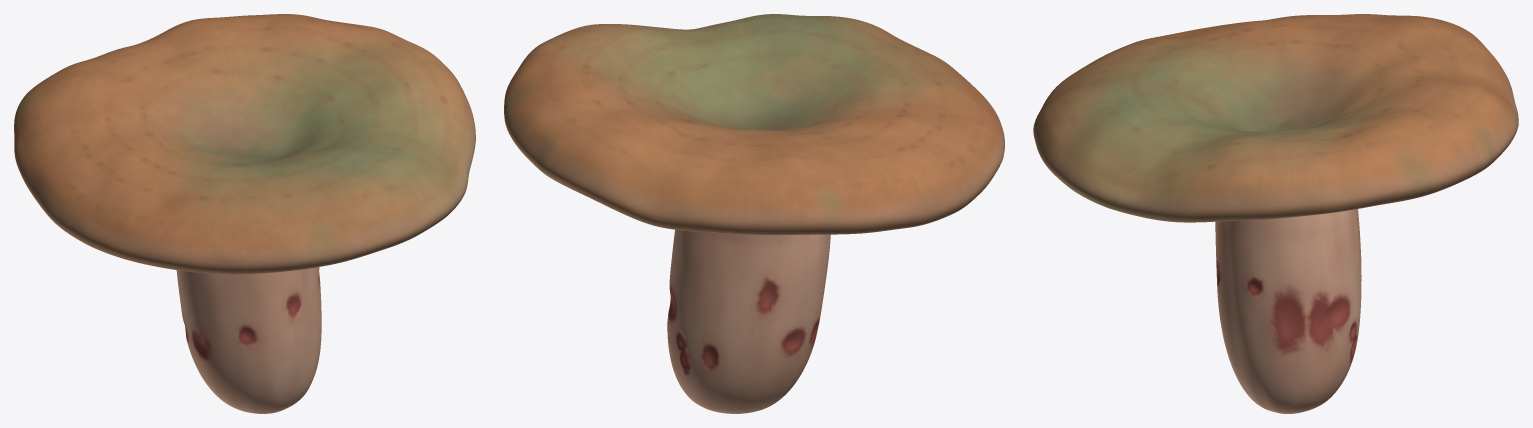
The model's file is lactarius-sanguifluus.glb.
3 views of the same model, side by side, from view 1: azimuth 30°, elevation 25°; view 2: azimuth 150°, elevation 25°; view 3: azimuth 270°, elevation 25° (orthographic). The views are drawn at different scales.
Parts seen in each view (by area): view 1: cap, stem; view 2: cap, stem; view 3: cap, stem.
Boxes of the visible parts, left/top/right/bottom form: cap: left=14, top=14, right=475, bottom=274; stem: left=176, top=267, right=321, bottom=413; cap: left=504, top=14, right=1004, bottom=235; stem: left=667, top=229, right=830, bottom=413; cap: left=1033, top=14, right=1518, bottom=222; stem: left=1215, top=209, right=1361, bottom=413.
Size of the model in its own units: 0.0931 by 0.0709 by 0.0937.
4 materials, 4 textured.
